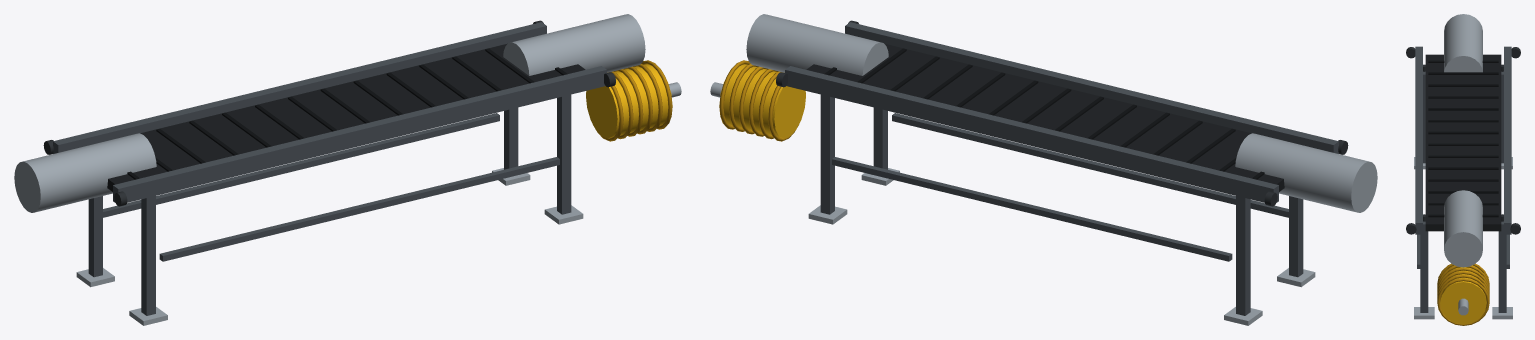
File: conveyor.glb
3 views of the same model, side by side, from view 1: azimuth 30°, elevation 25°; view 2: azimuth 150°, elevation 25°; view 3: azimuth 270°, elevation 25° (orthographic). The views are drawn at different scales.
Parts seen in each view (by area): view 1: Conveyor; view 2: Conveyor; view 3: Conveyor.
Part boxes in pixels (box(x1,y1,x2,y2)): Conveyor: box(14, 14, 681, 325); Conveyor: box(710, 14, 1377, 325); Conveyor: box(1406, 14, 1520, 325).
Size of the model in its own units: 2.13 by 0.495 by 0.44.
